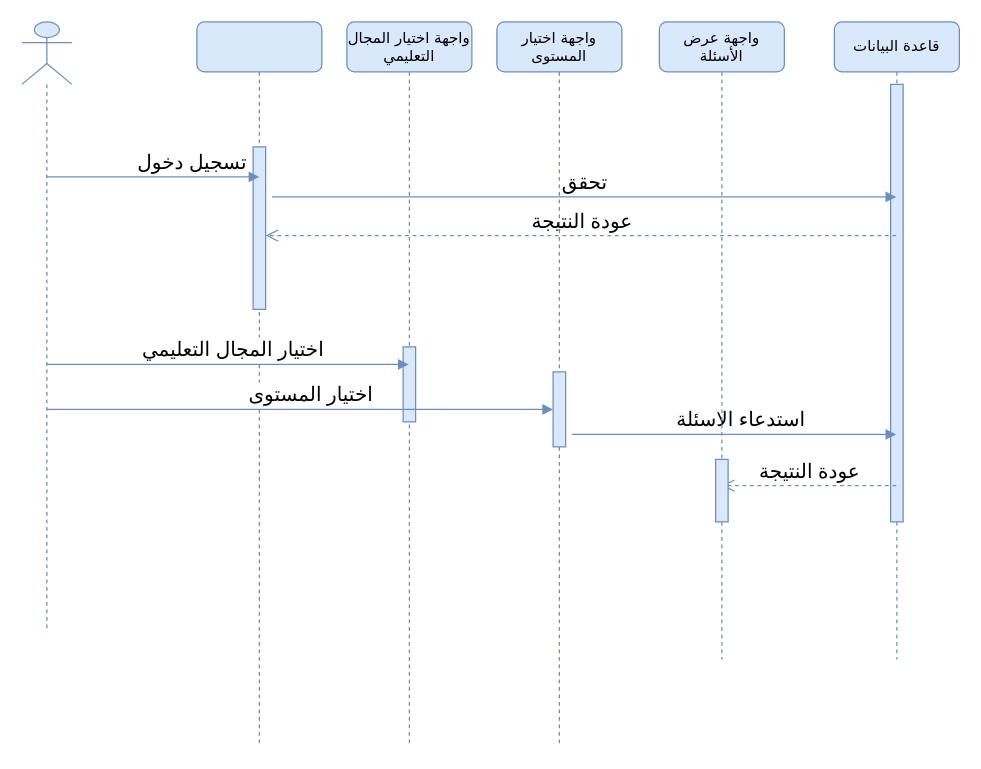
Image size: 981x769. Some labels were removed from this diagram. Here are the shapes that lost their labels. From the top down, the box of each, then its label:
(21, 21, 72, 628): الام
(196, 21, 322, 747): واجهة تسجيل الدخول
